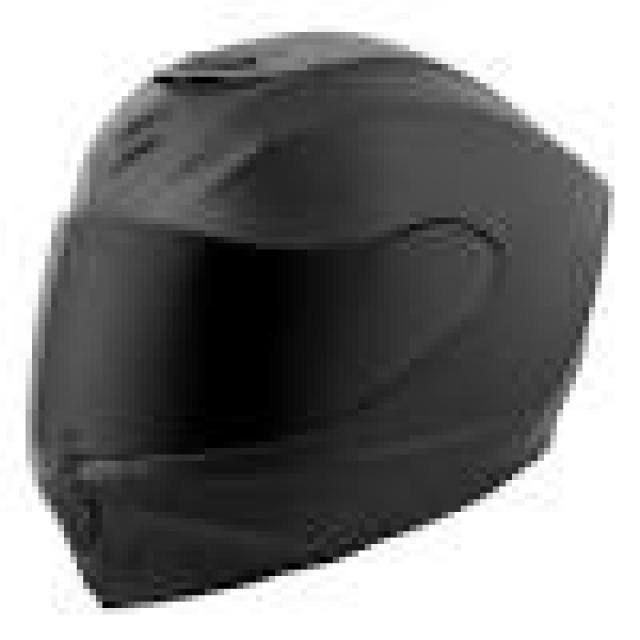helmet: (30, 31, 613, 606)
